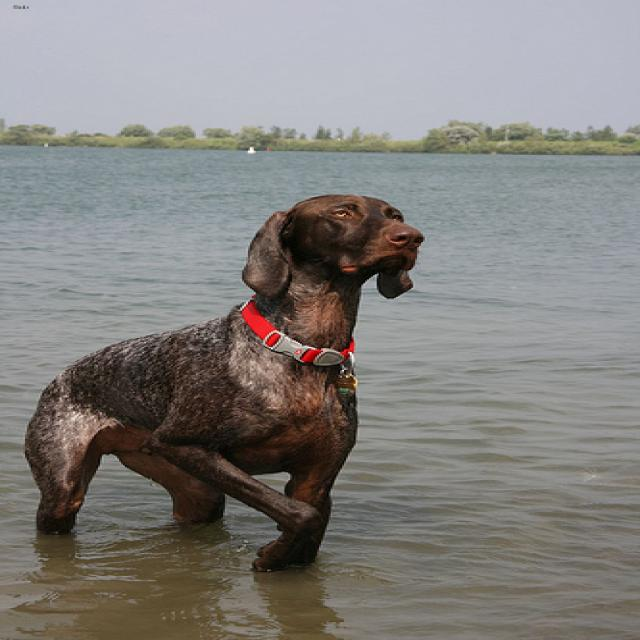dog-german_shorthaired: (12, 184, 436, 581)
